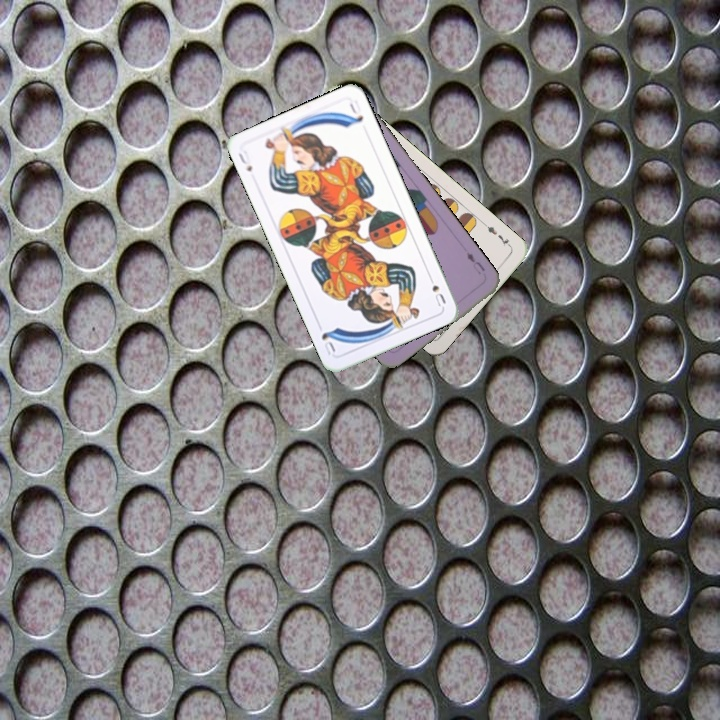E7: (480, 219, 514, 250)
EU: (462, 248, 487, 277)
SU: (424, 271, 448, 309), (234, 146, 255, 175)
